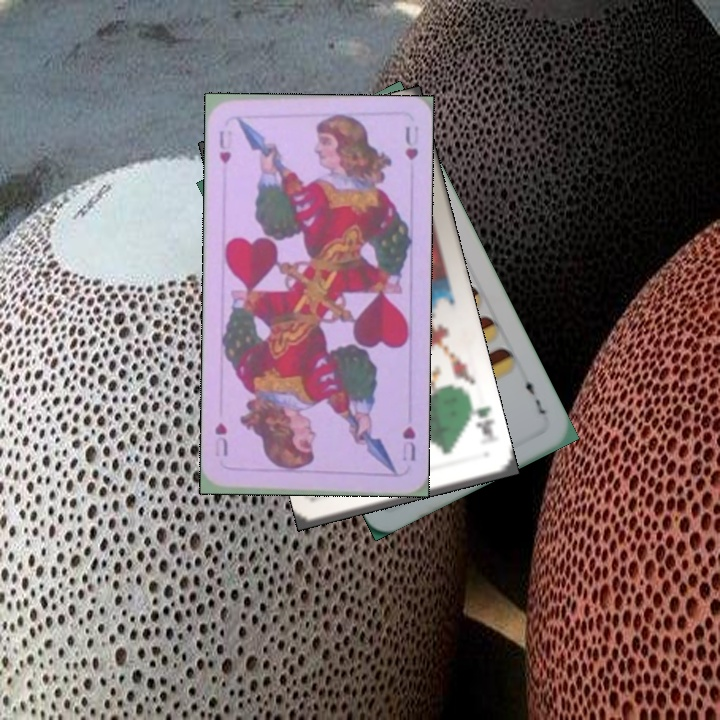E7: (521, 370, 548, 417)
GK: (465, 398, 496, 442)
HU: (398, 422, 418, 464), (215, 126, 234, 166)
